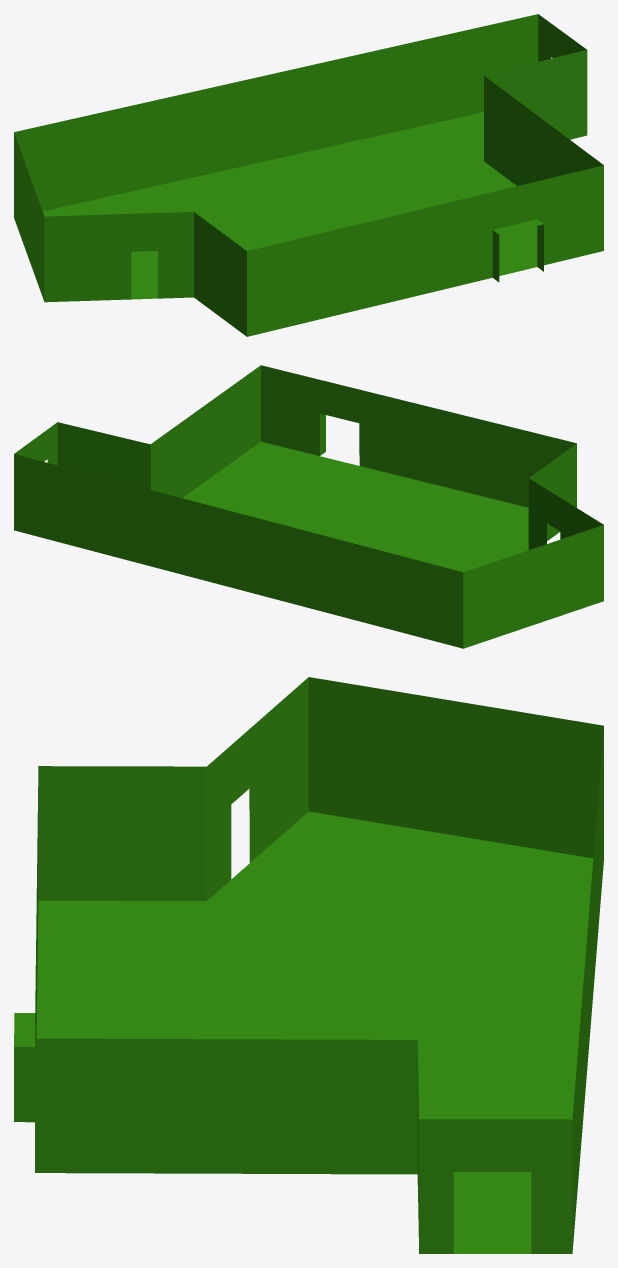
File: room_b.glb
3 renders of one model, top to bottom at view 1: azimuth 30°, elevation 25°; view 2: azimuth 150°, elevation 25°; view 3: azimuth 270°, elevation 25°, orthographic. The views are drawn at different scales.
Visible parts, largest first — view 1: room_b.001; view 2: room_b.001; view 3: room_b.001.
Part boxes in pixels (bbox=[...]): room_b.001: bbox=[14, 14, 603, 336]; room_b.001: bbox=[14, 365, 603, 648]; room_b.001: bbox=[14, 677, 603, 1253].
Size of the model in its own units: 50.19 by 7.11 by 28.28.
